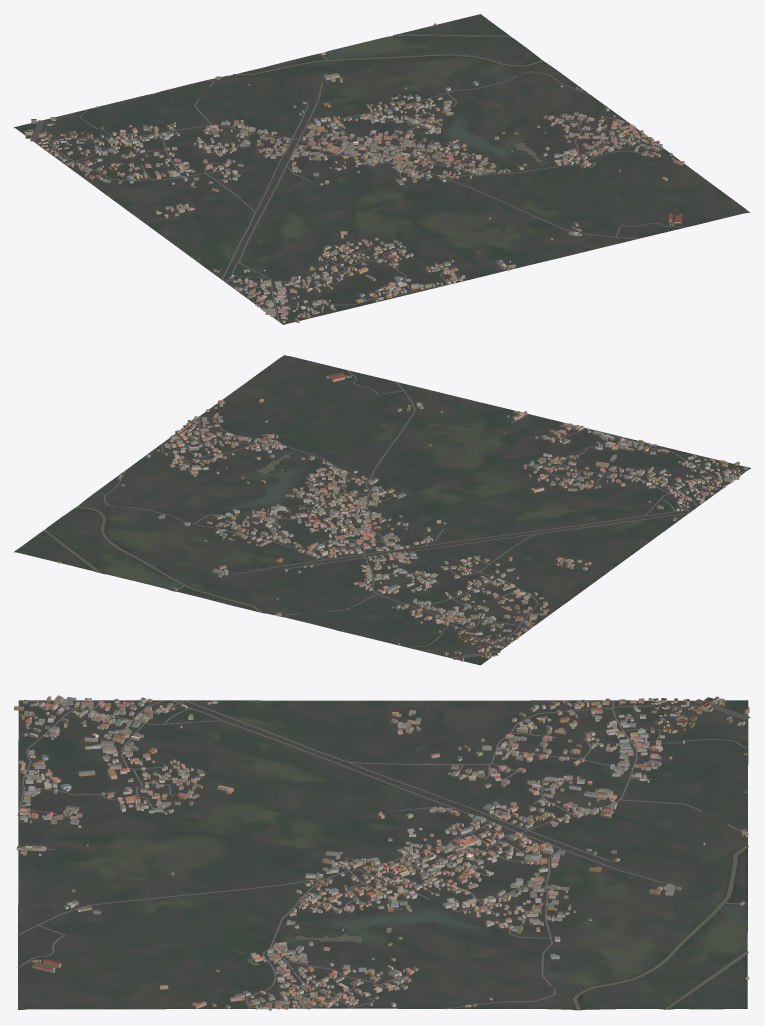
3 renders of one model, top to bottom at view 1: azimuth 30°, elevation 25°; view 2: azimuth 150°, elevation 25°; view 3: azimuth 270°, elevation 25°, orthographic. The views are drawn at different scales.
Visible parts, largest first — view 1: ground, buildings, roads, water; view 2: ground, buildings, roads, water; view 3: ground, buildings, roads, water.
Boxes of the visible parts, <box> form: ground: <box>14,14,749,324</box>; buildings: <box>24,23,684,322</box>; roads: <box>30,34,686,322</box>; water: <box>151,34,749,212</box>; ground: <box>14,355,750,665</box>; buildings: <box>58,372,747,661</box>; roads: <box>43,370,747,659</box>; water: <box>44,355,344,631</box>; ground: <box>18,700,748,1010</box>; buildings: <box>14,695,749,1010</box>; roads: <box>17,699,750,1009</box>; water: <box>18,790,748,1009</box>.
Size of the model in its own units: 1417 by 17.11 by 1416.
